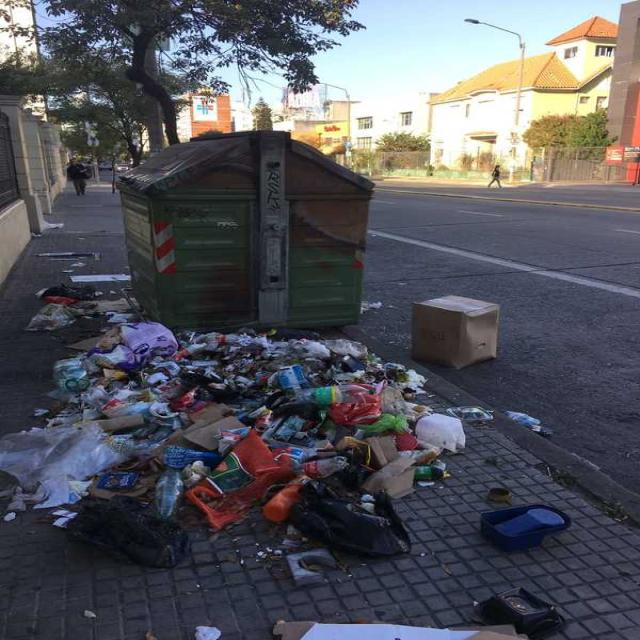garbage: (0, 314, 464, 590), (250, 587, 574, 639), (393, 284, 524, 372), (25, 243, 140, 337), (474, 482, 575, 565)
